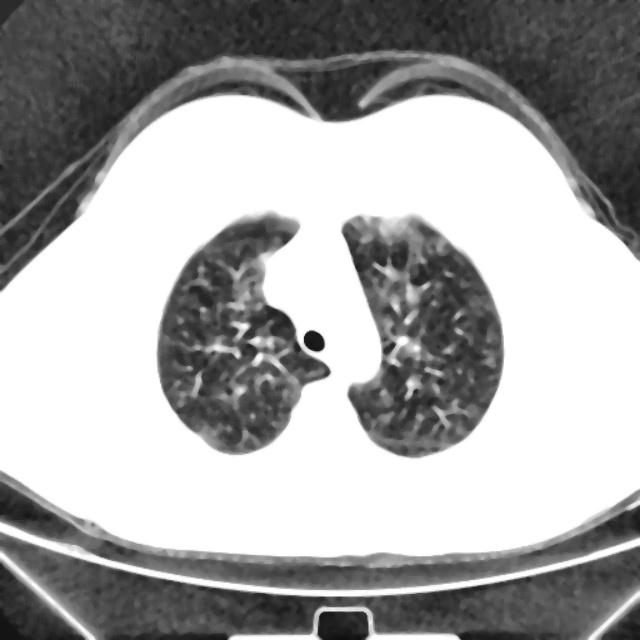covid: (155, 209, 330, 455), (340, 211, 504, 458)
